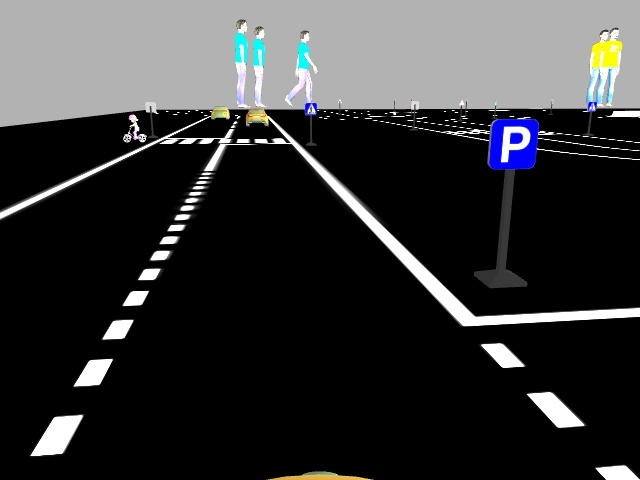Parking: (487, 115, 540, 174)
